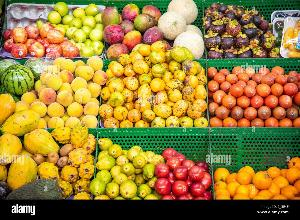apple: (154, 128, 210, 200), (7, 5, 74, 56), (60, 2, 106, 60)
figs: (204, 1, 280, 58)
mango: (105, 0, 163, 58)
melon: (159, 0, 205, 60)
orange: (215, 132, 300, 199)
peach: (21, 55, 107, 127)
pear: (94, 132, 154, 200)
